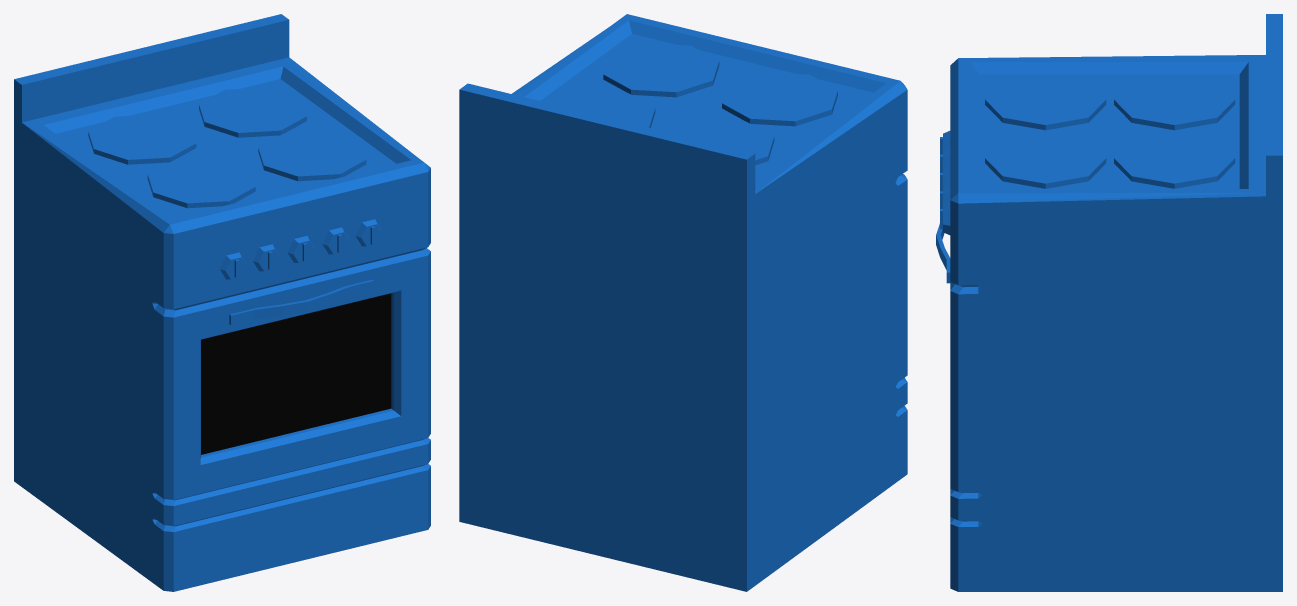
Rendered from SM_kitchen_electric_stove.fbx.
The picture shows the model from 3 angles, left to right: view 1: azimuth 30°, elevation 25°; view 2: azimuth 150°, elevation 25°; view 3: azimuth 270°, elevation 25°; orthographic projection. The views are drawn at different scales.
Parts seen in each view (by area): view 1: Cube_30; view 2: Cube_30; view 3: Cube_30.
Boxes of the visible parts, x1,y1,x2,y2 form: Cube_30: (14,14,430,591); Cube_30: (459,14,907,591); Cube_30: (936,14,1282,591).
Size of the model in its own units: 61.04 by 87.71 by 63.15.
